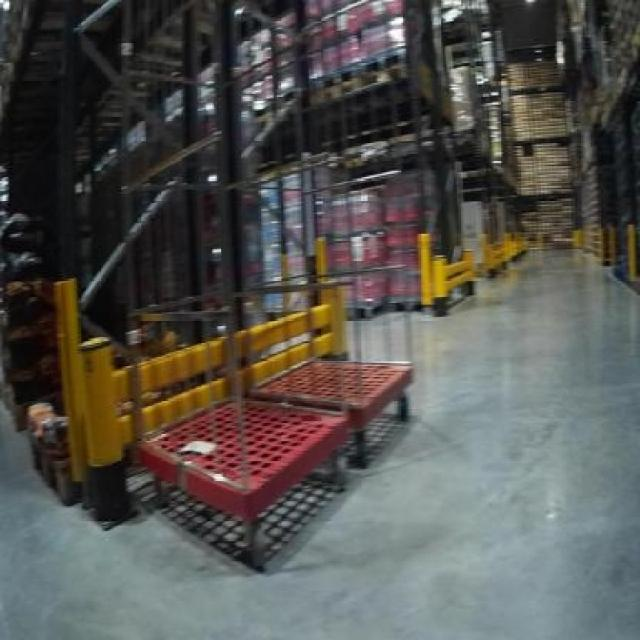floor: (0, 249, 637, 637)
pallets: (137, 402, 345, 518), (248, 358, 409, 465)
